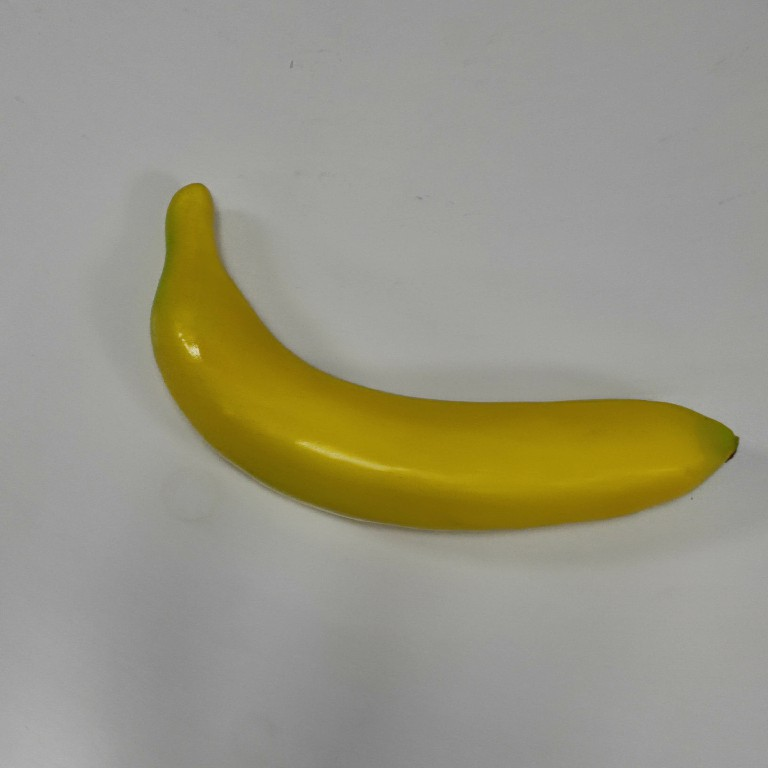fruit_banana: (145, 180, 744, 539)
